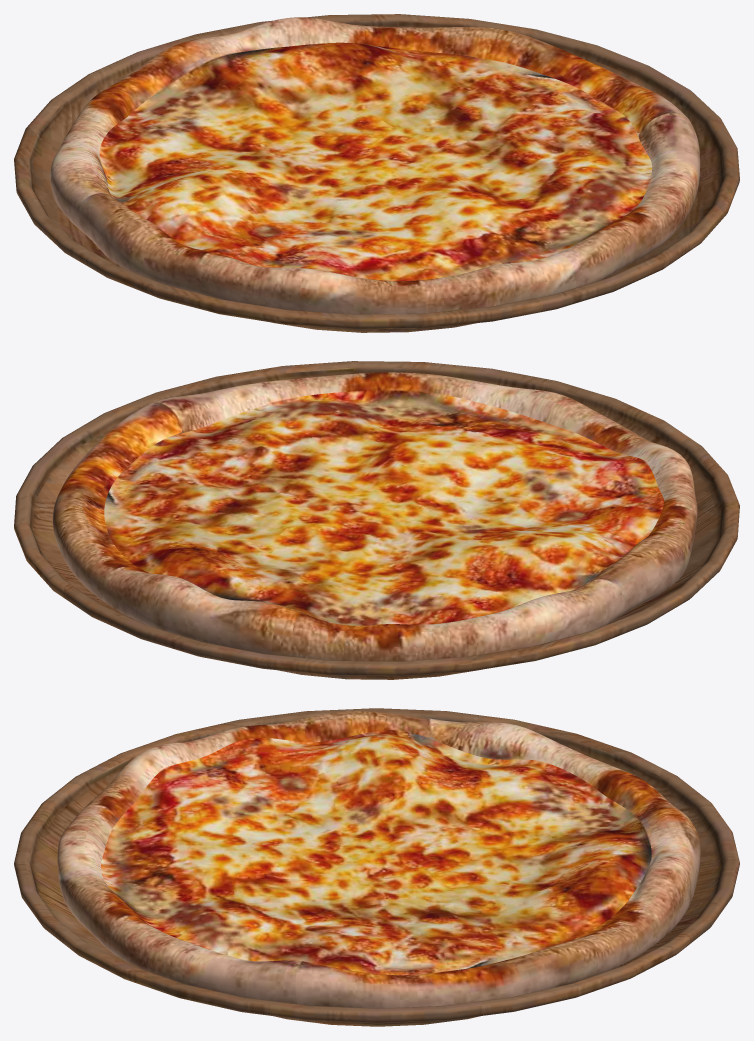
3 views of the same model, one above another, from view 1: azimuth 30°, elevation 25°; view 2: azimuth 150°, elevation 25°; view 3: azimuth 270°, elevation 25° (orthographic).
Visible parts, largest first — view 1: piza_low_01:Group259, Object_2_Material__2.001_0; view 2: piza_low_01:Group259, Object_2_Material__2.001_0; view 3: piza_low_01:Group259, Object_2_Material__2.001_0.
Part boxes in pixels (box(x1,y1,x2,y2)): piza_low_01:Group259: box(50, 17, 700, 314); Object_2_Material__2.001_0: box(14, 14, 739, 332); piza_low_01:Group259: box(52, 372, 697, 661); Object_2_Material__2.001_0: box(14, 361, 739, 679); piza_low_01:Group259: box(57, 711, 700, 1008); Object_2_Material__2.001_0: box(14, 708, 739, 1026).
Size of the model in its own units: 0.7141 by 0.1072 by 0.7141.
Materials: 2 (2 with a texture image).
